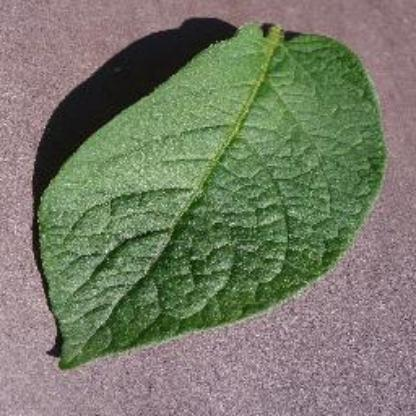Healthy-plant: (27, 16, 399, 392)
